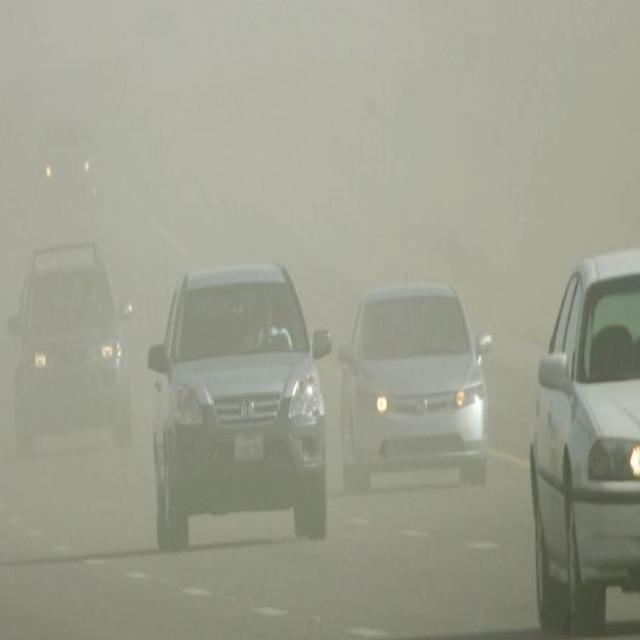car: (150, 264, 333, 545), (523, 238, 640, 622), (339, 278, 491, 488), (10, 244, 128, 454), (38, 108, 98, 226)
